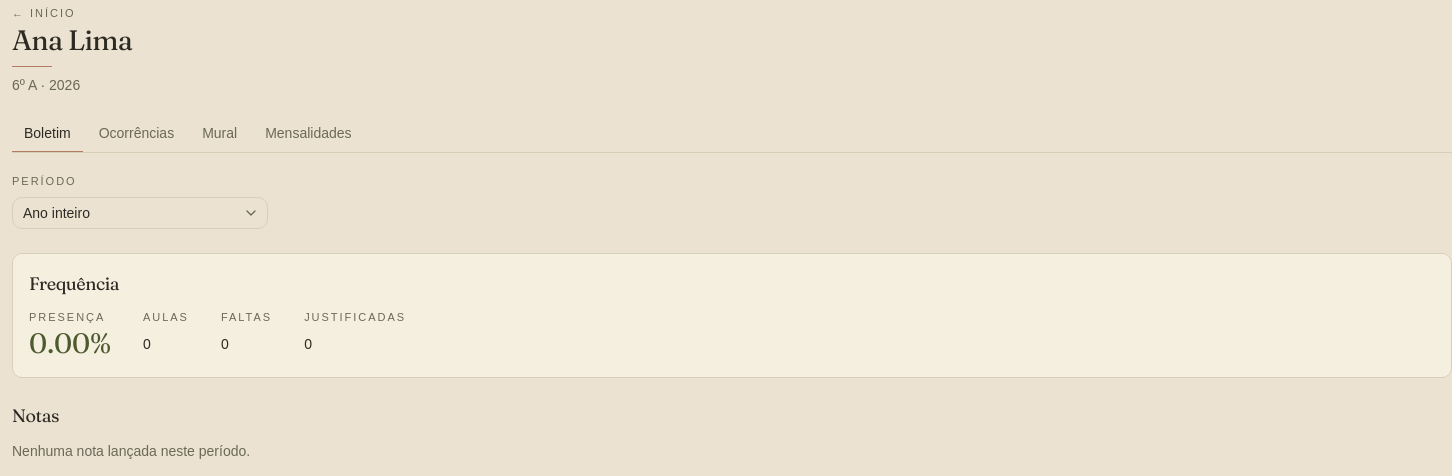
Test: AlunoPage — mensalidades › mostra a mensalidade com o link de pagamento
The image size is (1452, 476).
Check: the heading "Ana Lima" is shown, box x1=12 y1=23 x2=132 y2=57
What coordinates should you click on to do the following:
click the tab "Mensalidades"
I would click on:
 (308, 134)
Its box is x1=253 y1=115 x2=364 y2=153.
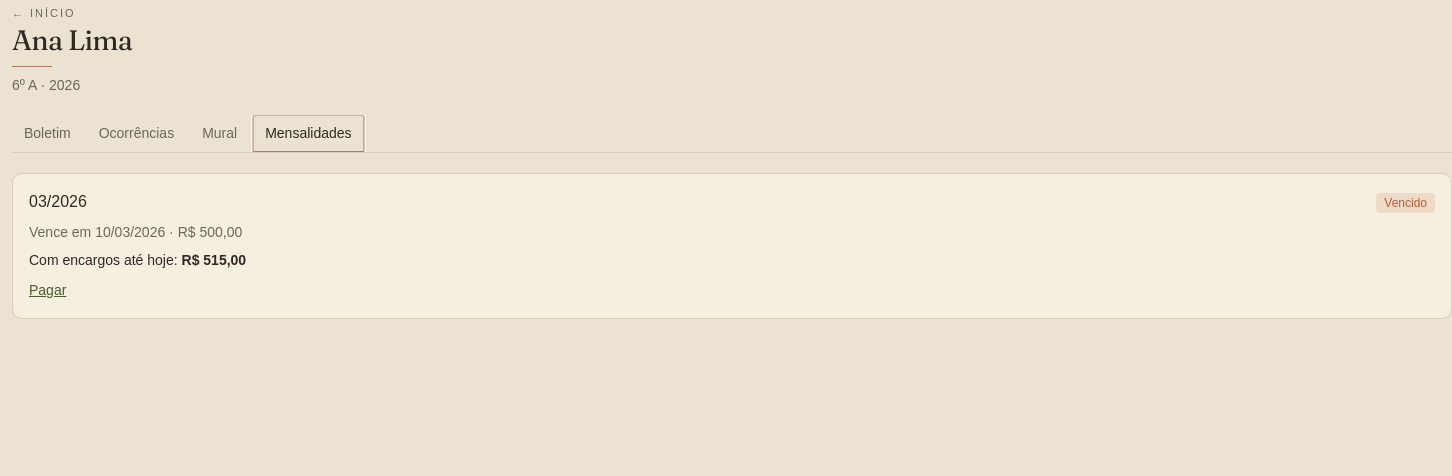
Check: the text "03/2026" is shown, box x1=29 y1=190 x2=87 y2=214
